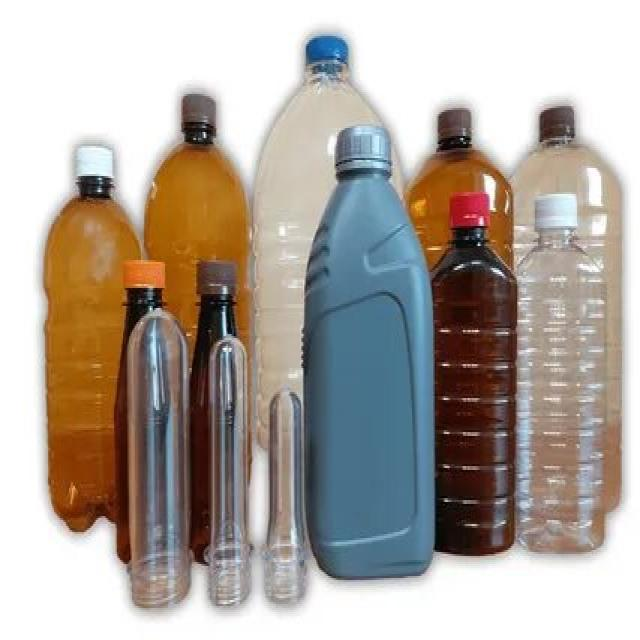brown: (434, 228, 516, 554), (44, 185, 117, 522), (148, 127, 248, 263), (405, 142, 511, 195)
